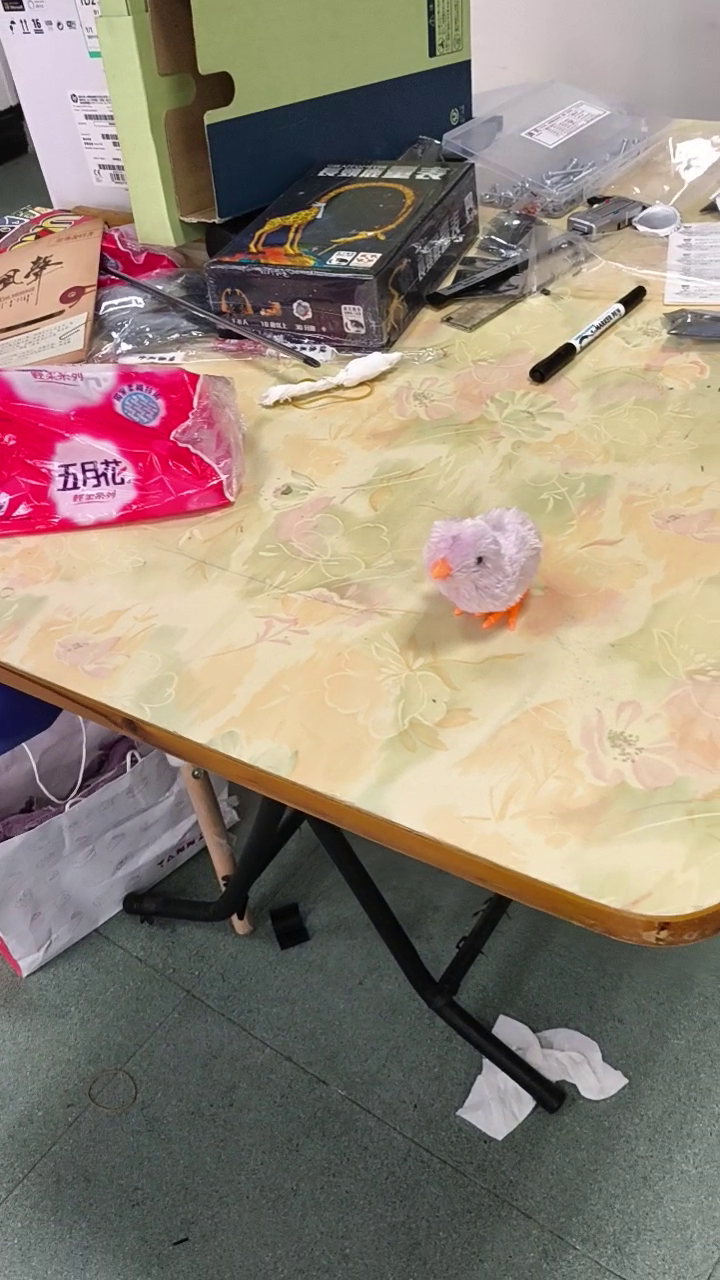pink chicken: (419, 506, 545, 634)
